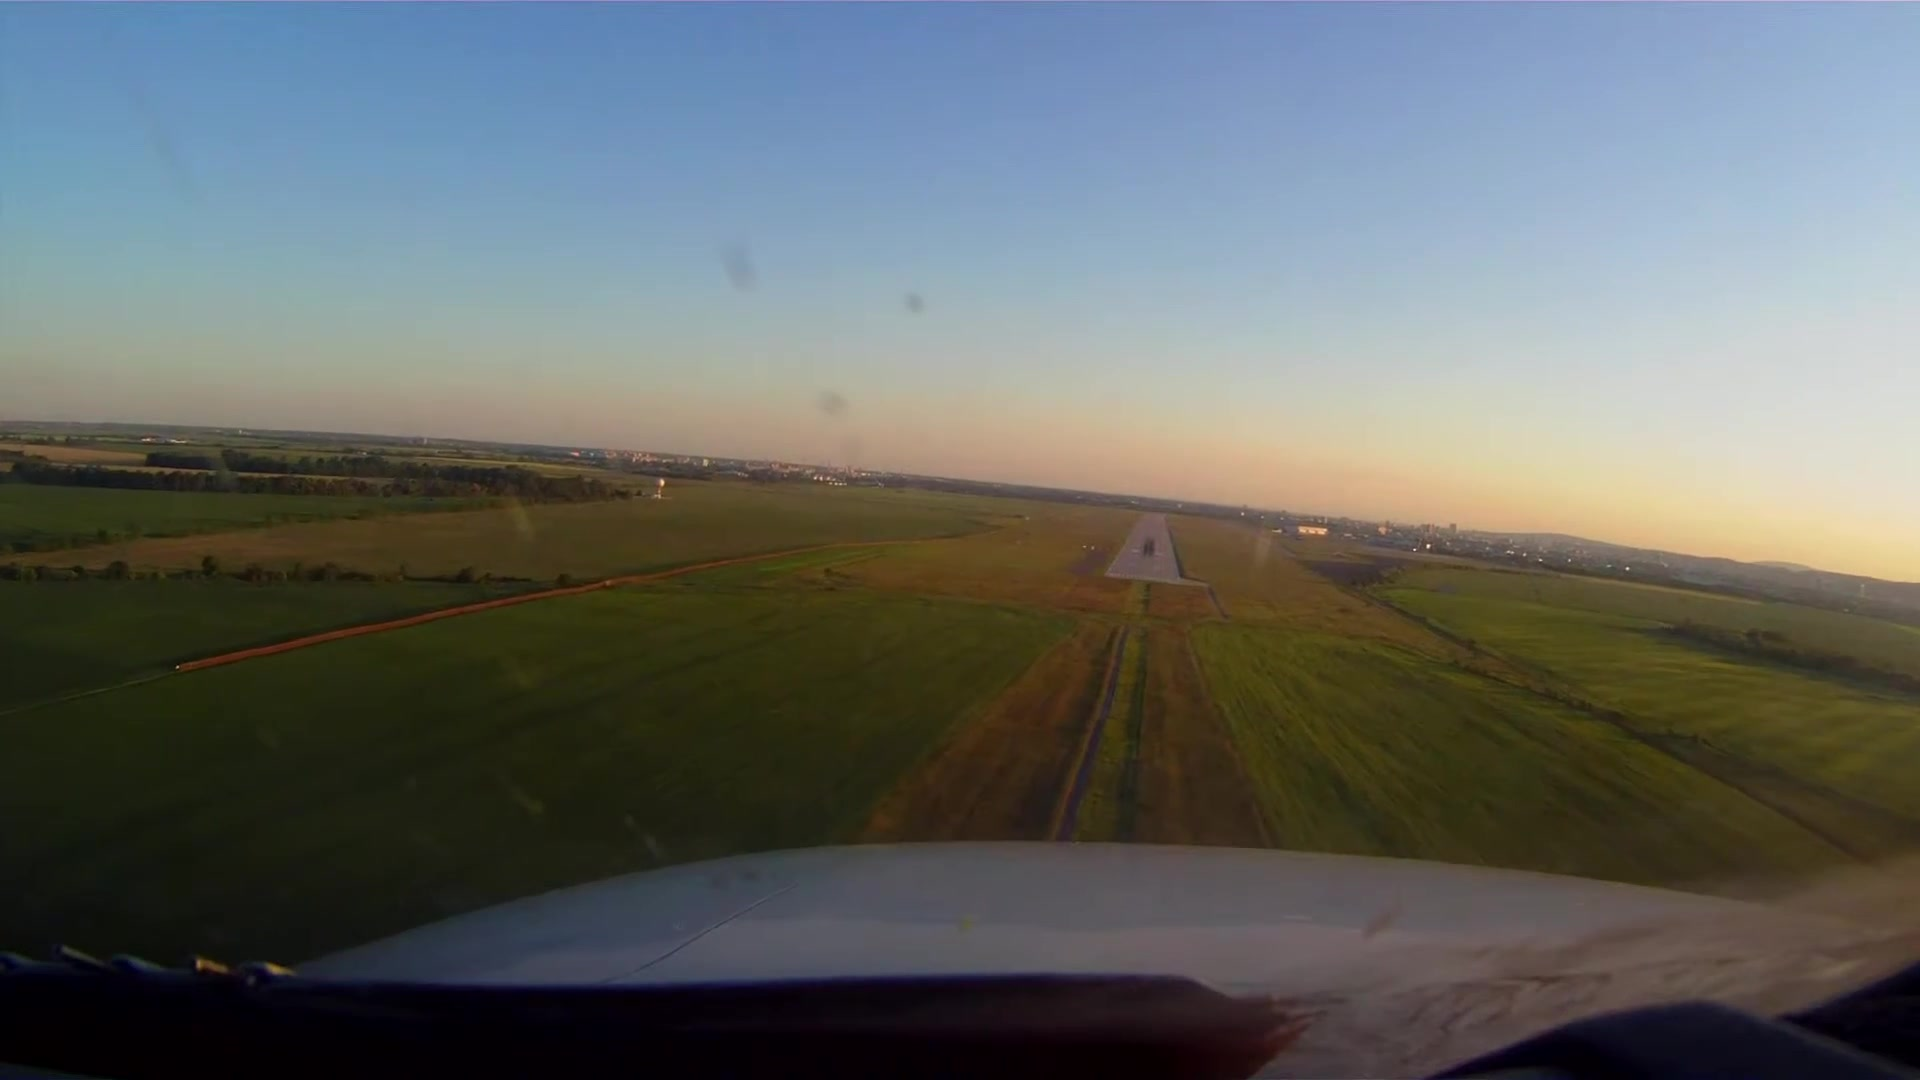runway: (1100, 510, 1185, 588)
